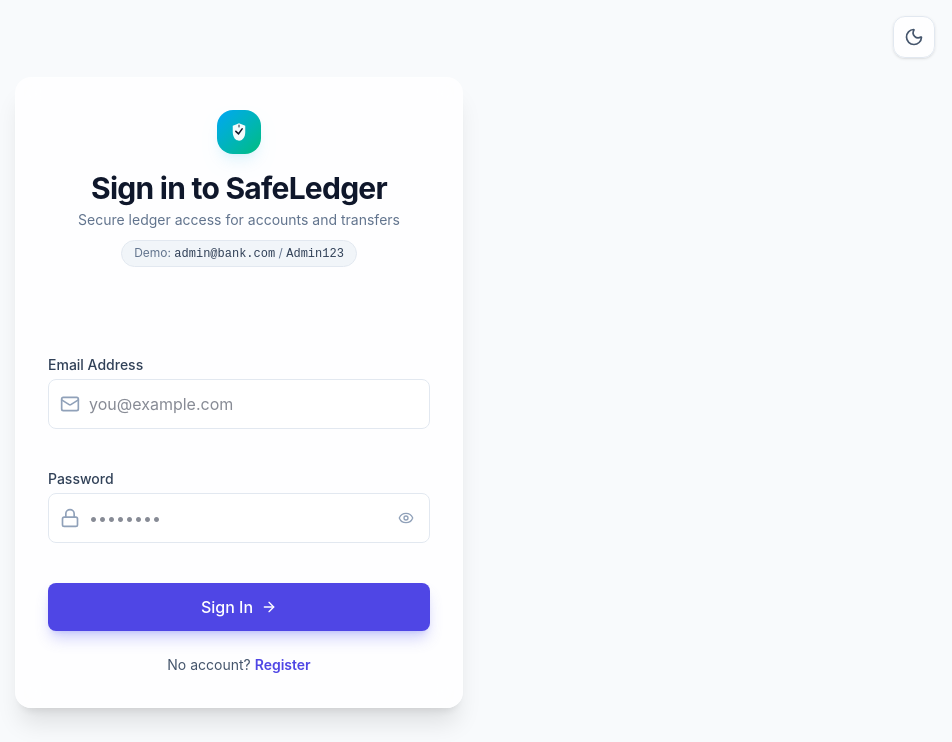
Test: SafeLedger Login - Cypress End-to-End Suite › Authentication Flows & Validation › displays client-side errors on empty submit
Click the button with test id "login-submit" at (239, 607), box [48,583,430,631]
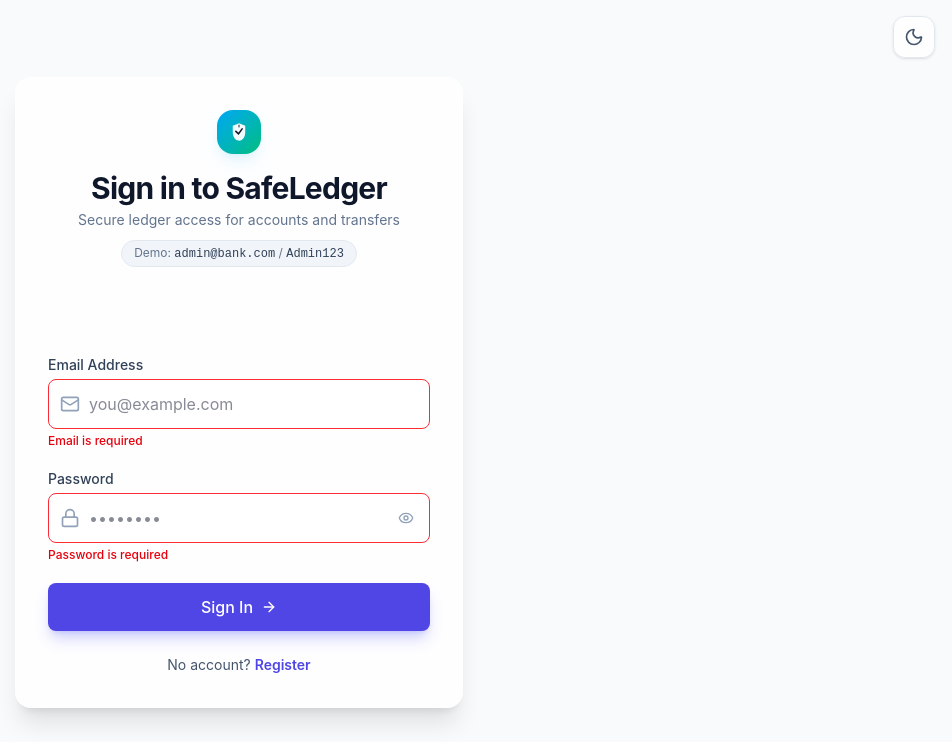
Check: the message with test id "email-error" reads "Email is required", box [48,433,143,448]
Check: the message with test id "password-error" reads "Password is required", box [48,547,168,562]
